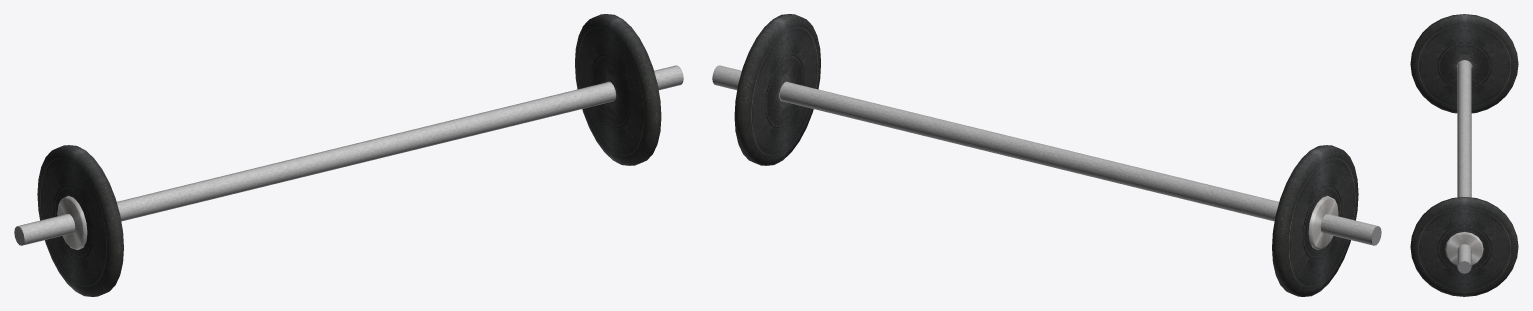
Rendered from Barbell02.FBX.
The picture shows the model from 3 angles, left to right: view 1: azimuth 30°, elevation 25°; view 2: azimuth 150°, elevation 25°; view 3: azimuth 270°, elevation 25°; orthographic projection. The views are drawn at different scales.
Visible parts, largest first — view 1: Barbell02; view 2: Barbell02; view 3: Barbell02.
Boxes of the visible parts, left/top/right/bottom form: Barbell02: left=14, top=14, right=683, bottom=296; Barbell02: left=712, top=14, right=1381, bottom=296; Barbell02: left=1410, top=14, right=1518, bottom=296.
Size of the model in its own units: 2106 by 429 by 429.
